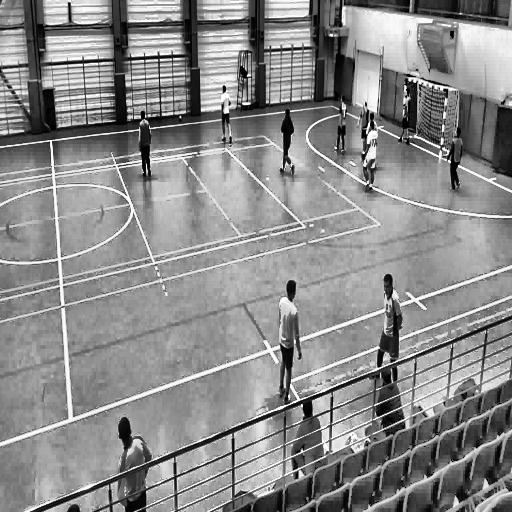ball: (178, 112, 184, 122)
player: (370, 272, 402, 387), (116, 411, 152, 509), (277, 279, 302, 407), (446, 126, 462, 197), (138, 106, 153, 180), (280, 107, 295, 176), (334, 90, 349, 158), (364, 122, 378, 194), (220, 83, 234, 145), (398, 88, 412, 146), (357, 101, 368, 154), (366, 111, 379, 141)
